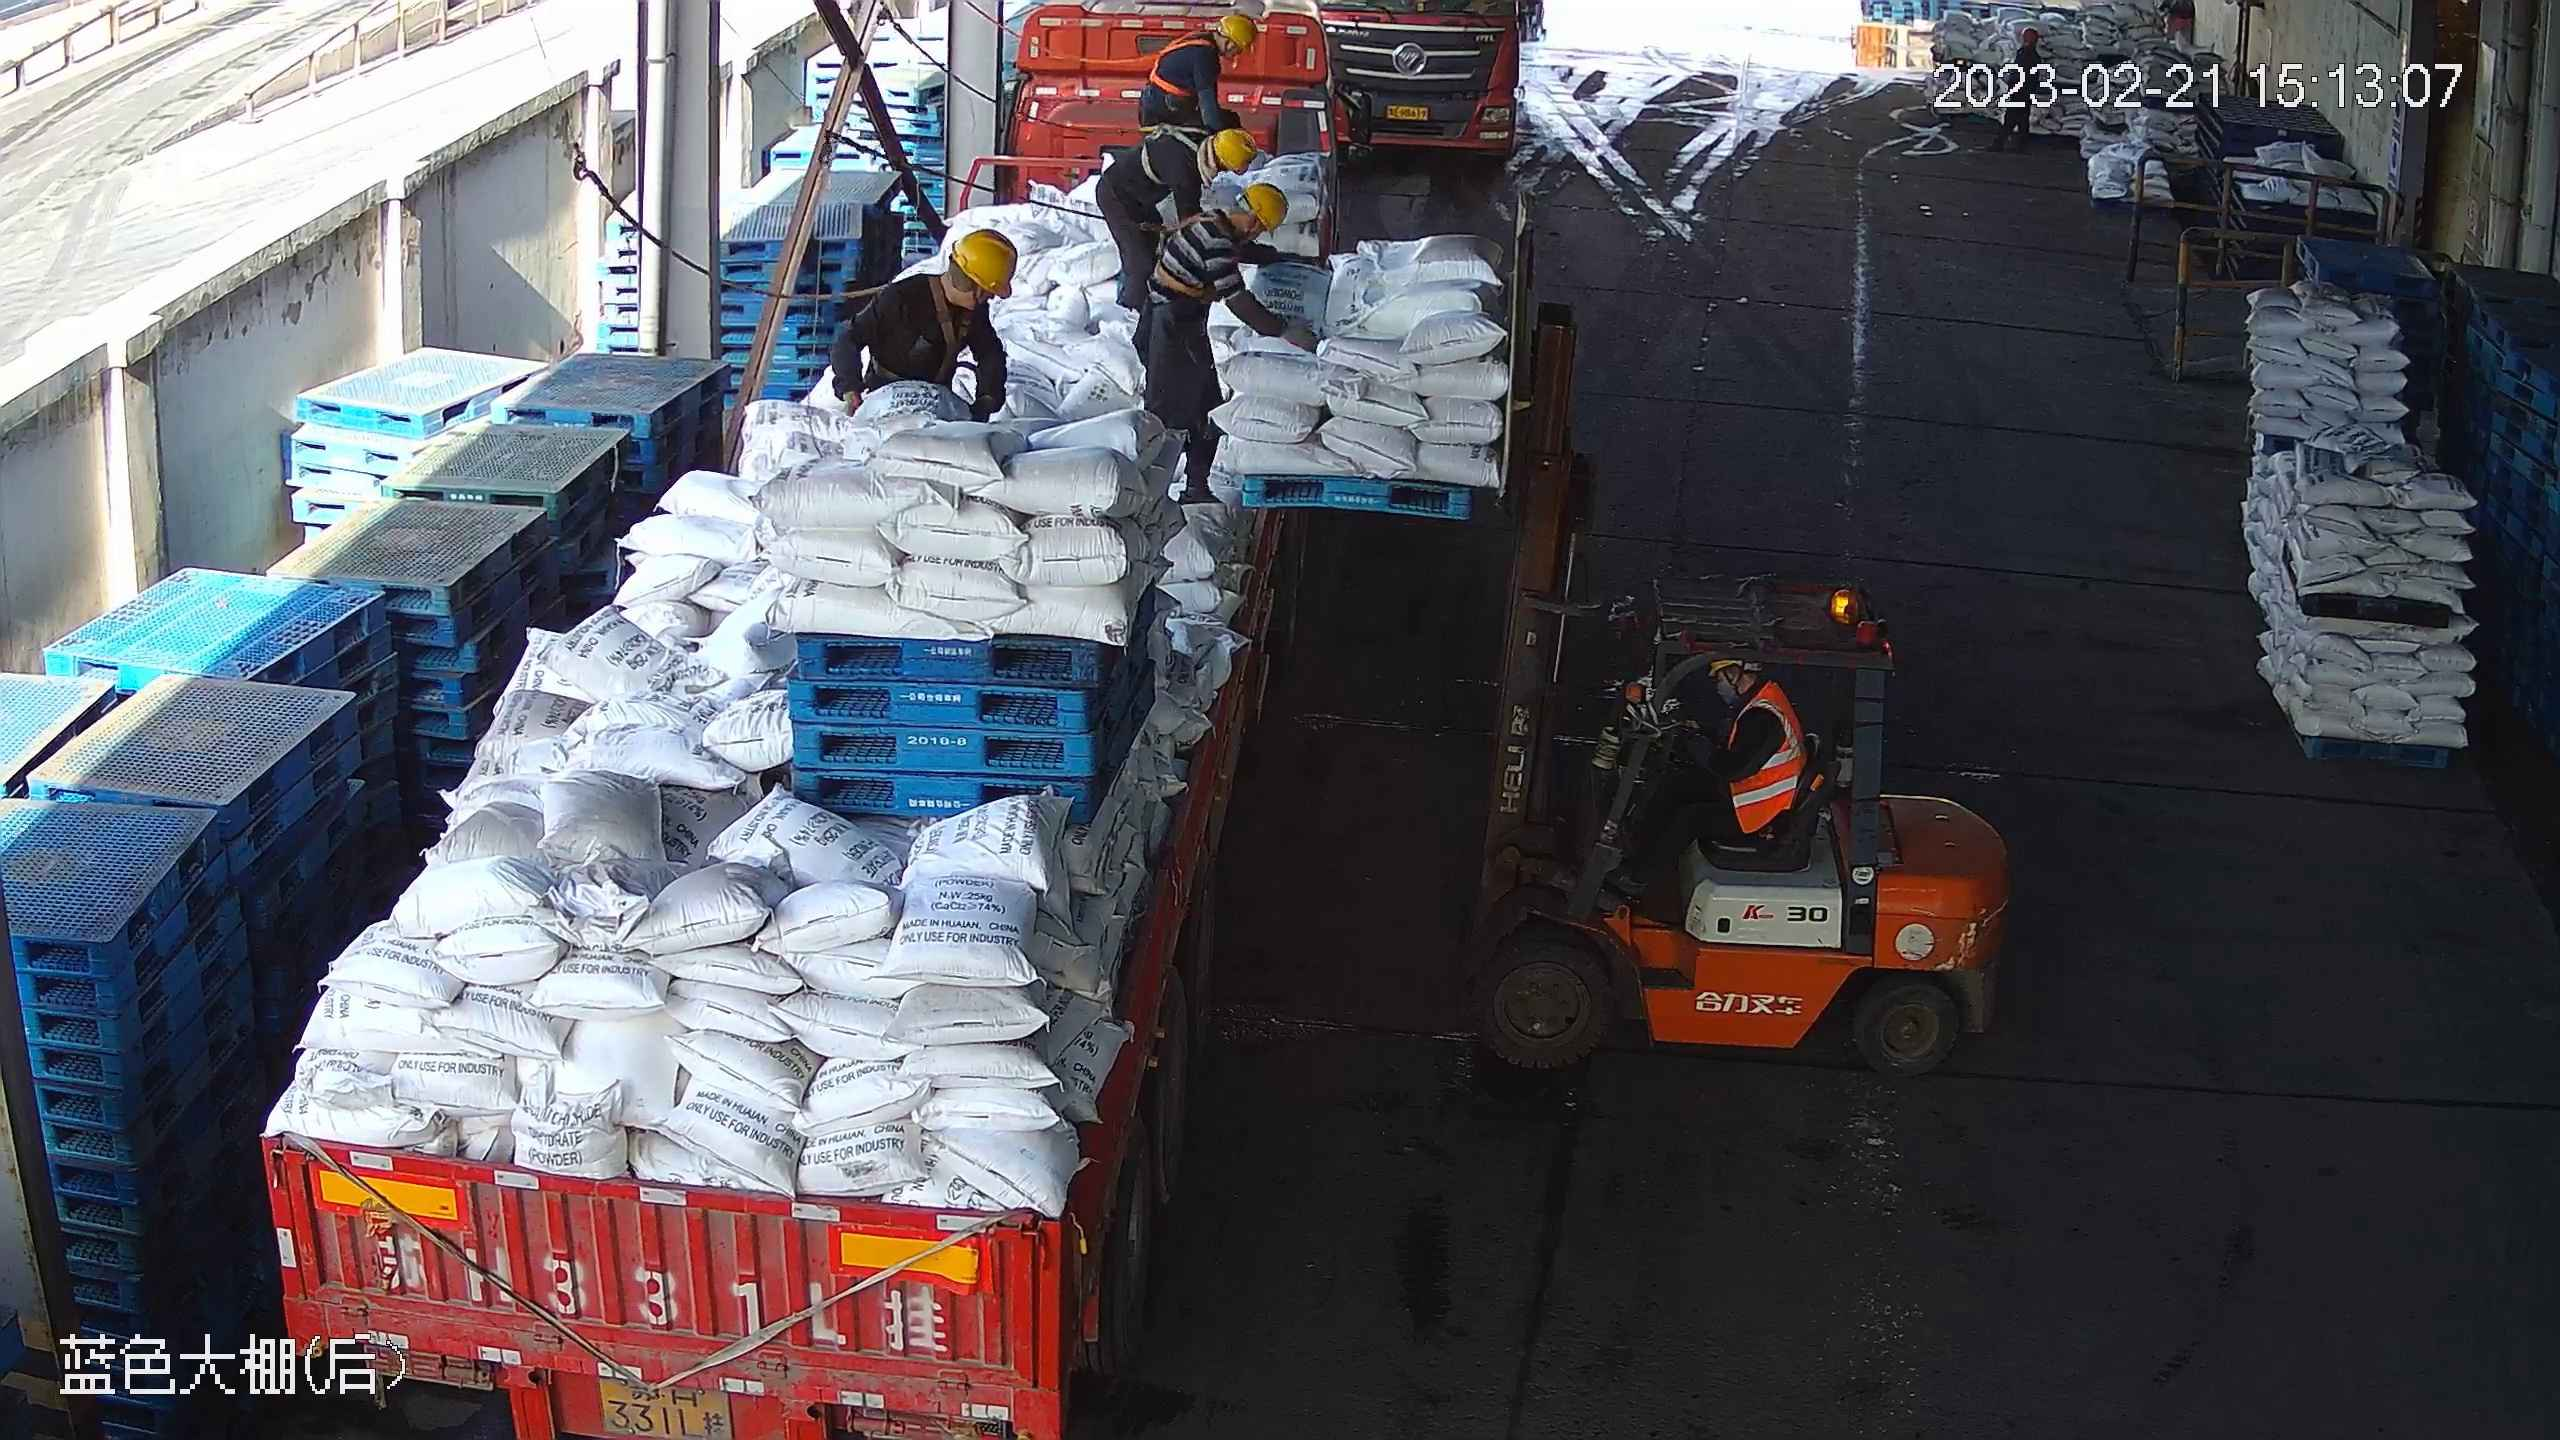belt: (1145, 212, 1229, 299), (925, 277, 971, 384), (1142, 30, 1213, 96), (1140, 121, 1208, 184)
head: (875, 227, 1018, 334), (1186, 183, 1288, 270), (1171, 126, 1257, 187), (1179, 14, 1257, 79)
helmet: (951, 228, 1018, 298), (1244, 182, 1288, 239), (1214, 127, 1257, 175), (1218, 13, 1257, 48)
people: (1131, 182, 1325, 505), (1610, 659, 1808, 905), (1094, 126, 1257, 310), (1138, 13, 1259, 127)
truck: (258, 1, 1374, 1440), (1317, 1, 1519, 153)
